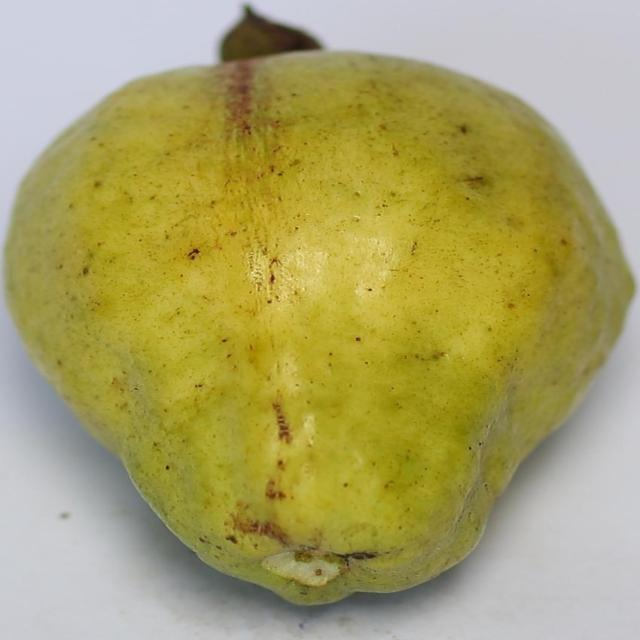Good_Guava: (0, 50, 635, 610)
